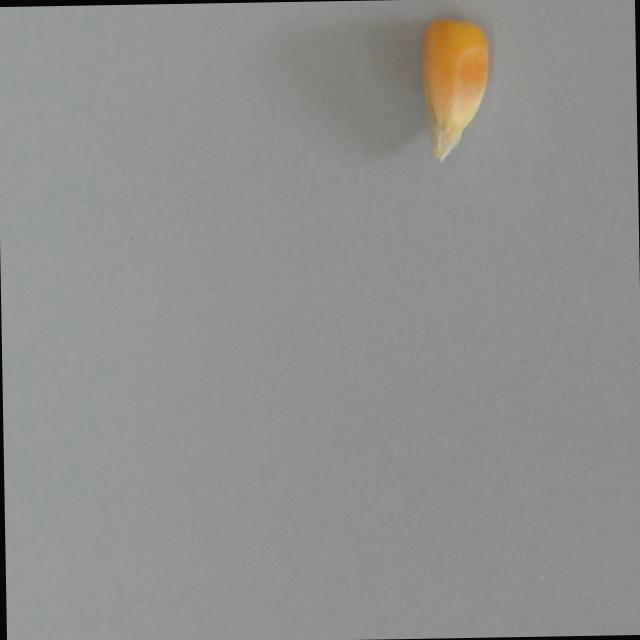entero: (398, 1, 518, 171)
